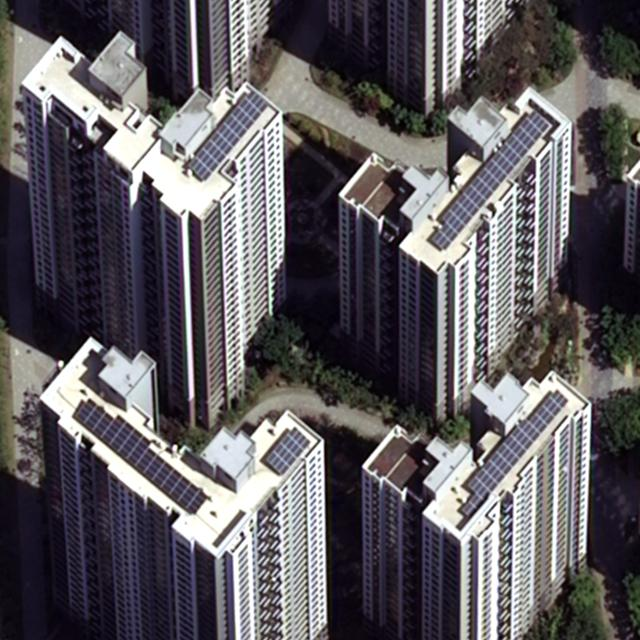panel: (429, 109, 556, 252), (73, 398, 209, 518), (456, 388, 568, 518), (186, 90, 272, 184), (259, 427, 310, 476)
